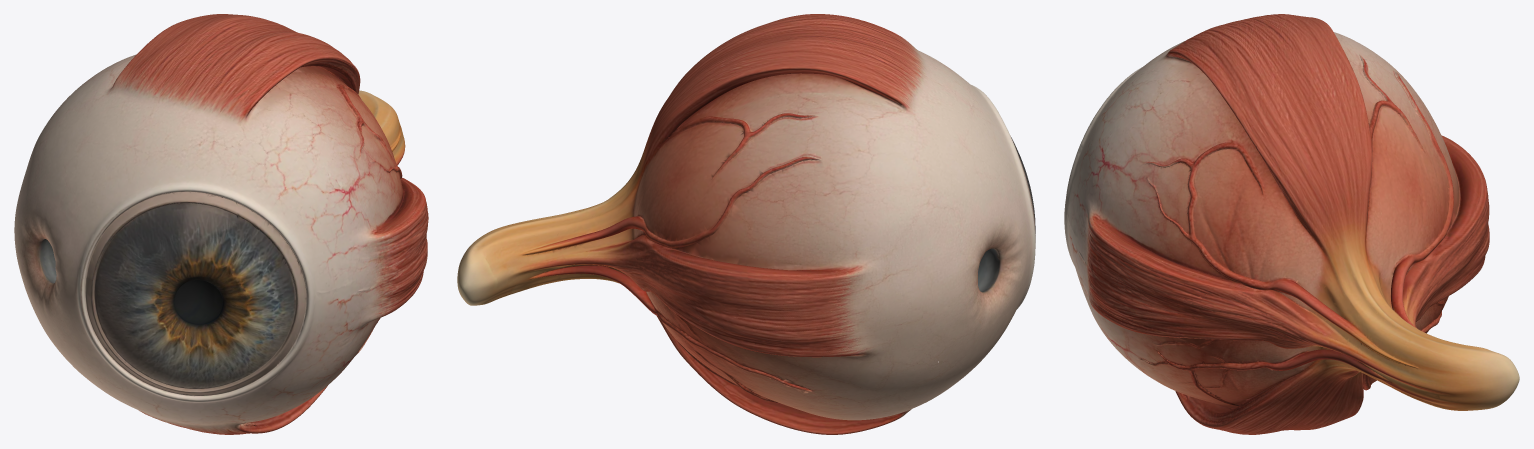
The model's file is eyeball.glb.
The picture shows the model from 3 angles, left to right: view 1: azimuth 30°, elevation 25°; view 2: azimuth 150°, elevation 25°; view 3: azimuth 270°, elevation 25°; orthographic projection.
Parts seen in each view (by area): view 1: tripo_node_ebf243bf-d3b6-4331-9960-3b03130a2b84; view 2: tripo_node_ebf243bf-d3b6-4331-9960-3b03130a2b84; view 3: tripo_node_ebf243bf-d3b6-4331-9960-3b03130a2b84.
Boxes of the visible parts, bbox=[...] form: tripo_node_ebf243bf-d3b6-4331-9960-3b03130a2b84: bbox=[14, 14, 428, 434]; tripo_node_ebf243bf-d3b6-4331-9960-3b03130a2b84: bbox=[457, 14, 1035, 434]; tripo_node_ebf243bf-d3b6-4331-9960-3b03130a2b84: bbox=[1064, 14, 1519, 434].
Size of the model in its own units: 0.9793 by 0.8046 by 0.8529.
1 material, 1 textured.
